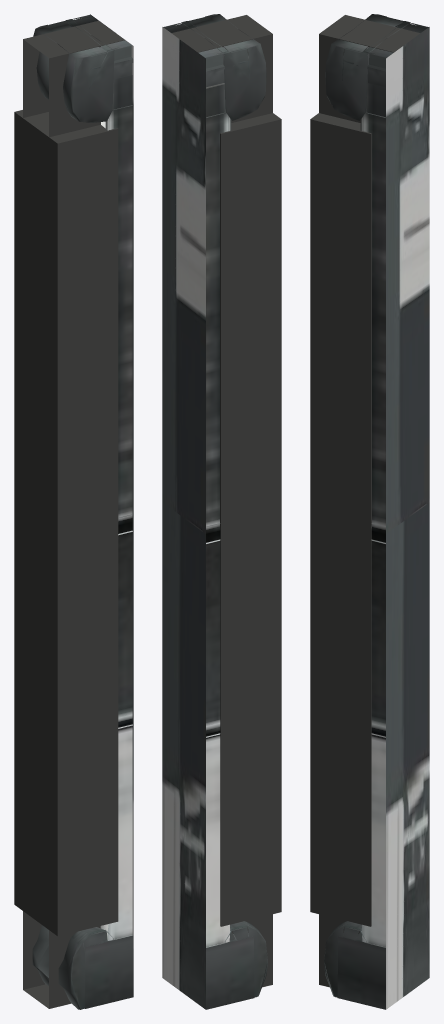
Rendered from corner-post.glb.
3 renders of one model, left to right at view 1: azimuth 30°, elevation 25°; view 2: azimuth 210°, elevation 25°; view 3: azimuth 330°, elevation 25°, orthographic.
Size of the model in its own units: 0.25 by 3 by 0.25.
Materials: 1 (1 with a texture image).
